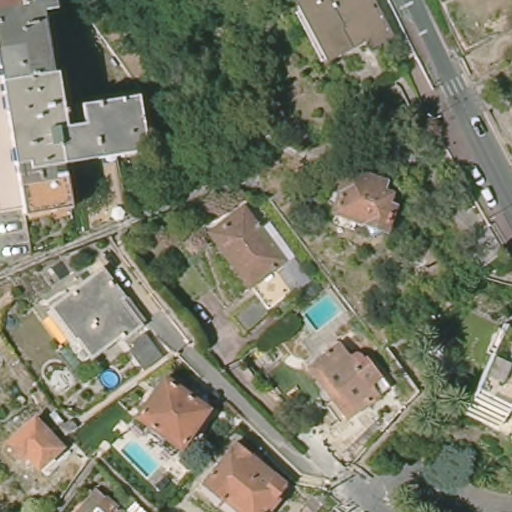pool: (299, 294, 345, 330), (121, 437, 164, 475), (97, 367, 124, 395)
